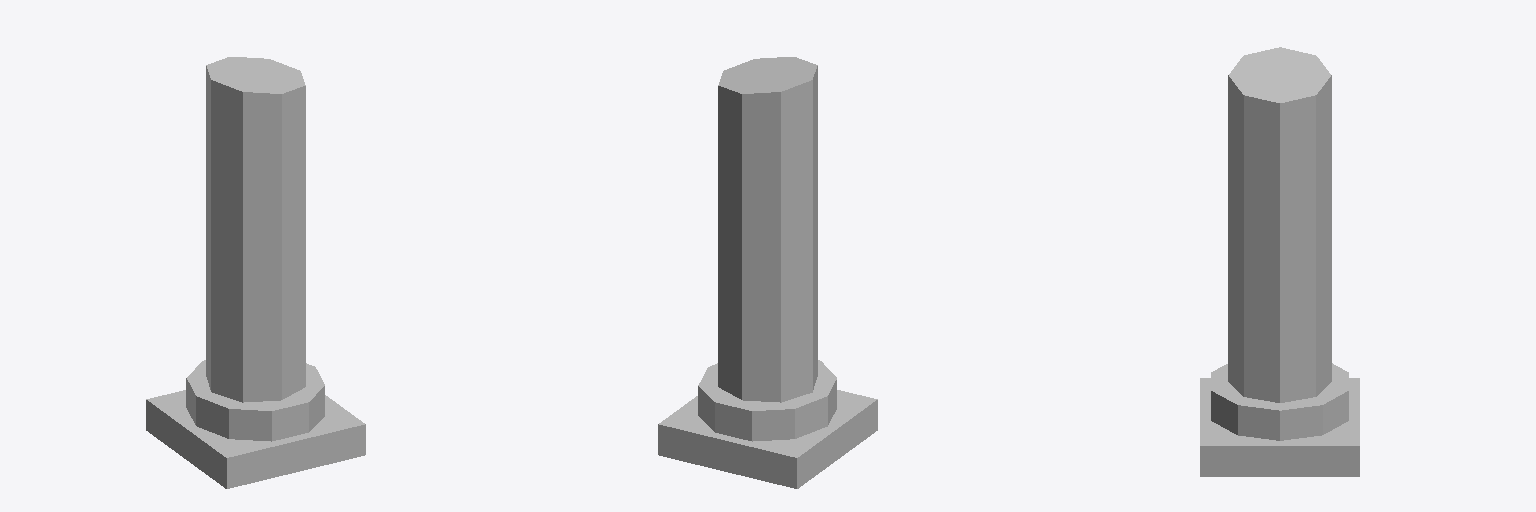
The model's file is broken_column1.obj.
3 renders of one model, left to right at view 1: azimuth 30°, elevation 25°; view 2: azimuth 150°, elevation 25°; view 3: azimuth 270°, elevation 25°, orthographic.
Visible parts, largest first — view 1: Object.1; view 2: Object.1; view 3: Object.1.
Boxes of the visible parts, x1=… form: Object.1: x1=146, y1=57, x2=365, y2=488; Object.1: x1=658, y1=57, x2=877, y2=488; Object.1: x1=1200, y1=47, x2=1359, y2=476.
Bounding box in the file's own units: 0.9985 × 2.57 × 0.9985.